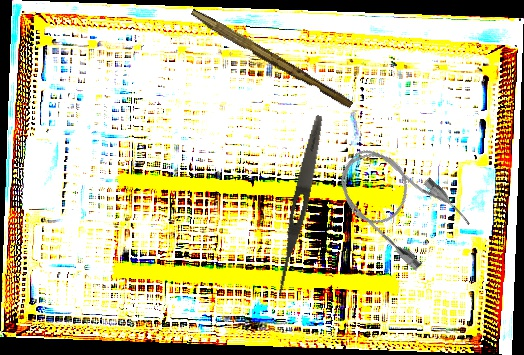Cannula: (324, 130, 475, 277)
Dressing Forceps: (272, 113, 328, 298)
Scalpel Handle: (187, 8, 356, 110)
